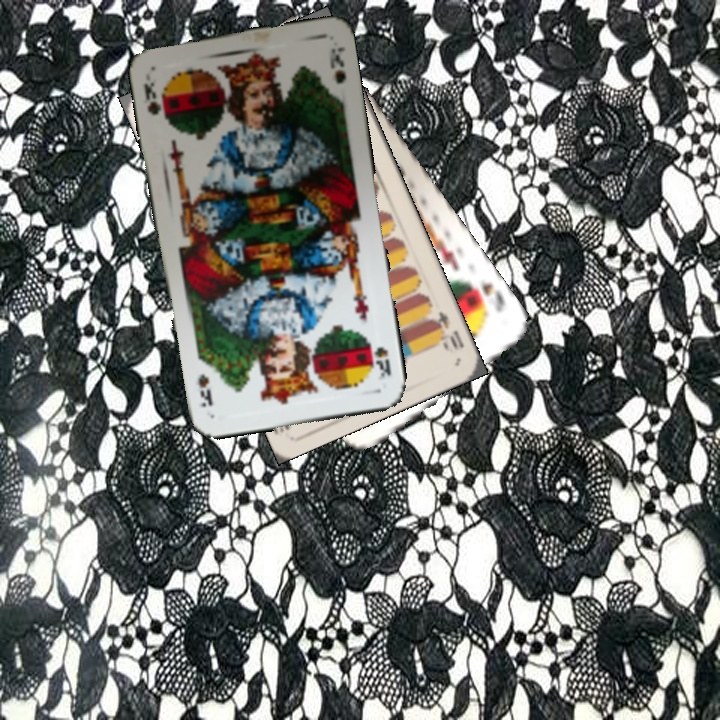E10: (426, 307, 467, 354)
SK: (463, 277, 508, 318), (139, 69, 164, 118), (370, 342, 394, 383)
